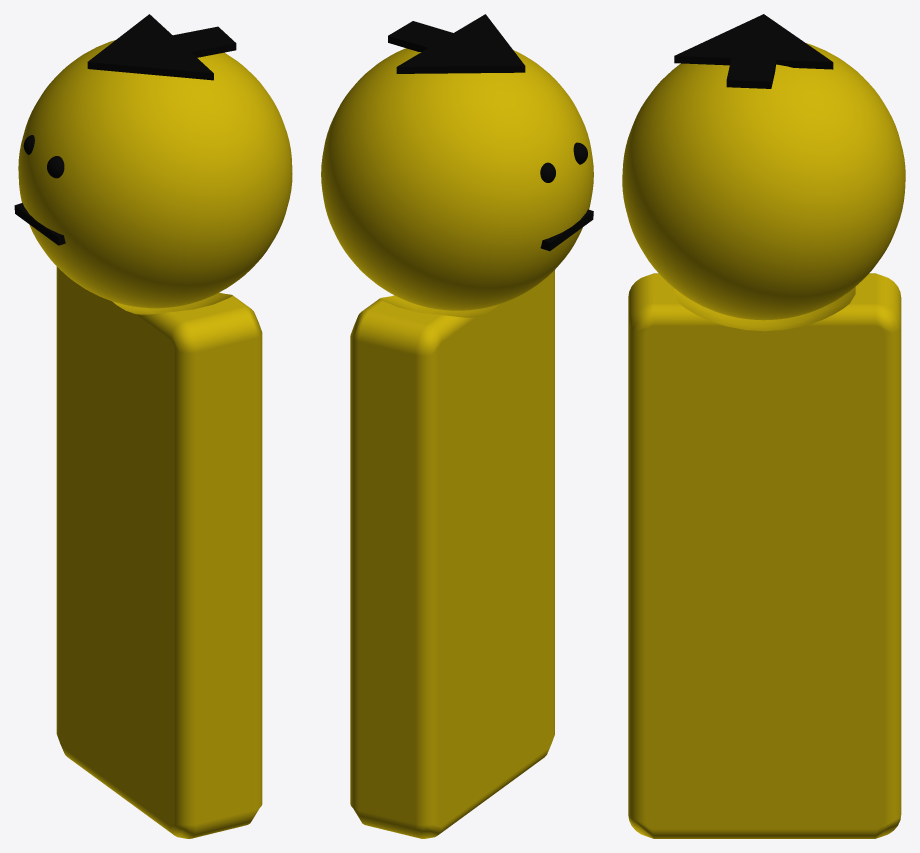
The model's file is yellow_poker.obj.
3 views of the same model, side by side, from view 1: azimuth 30°, elevation 25°; view 2: azimuth 150°, elevation 25°; view 3: azimuth 270°, elevation 25° (orthographic). The views are drawn at different scales.
Parts seen in each view (by area): view 1: 1_Curve.002_Curve.002, 5.002_Curve.002_Curve.002; view 2: 1_Curve.002_Curve.002, 5.002_Curve.002_Curve.002; view 3: 1_Curve.002_Curve.002, 5.002_Curve.002_Curve.002.
Boxes of the visible parts, x1=… form: 1_Curve.002_Curve.002: x1=18, y1=40, x2=292, y2=838; 5.002_Curve.002_Curve.002: x1=14, y1=14, x2=236, y2=245; 1_Curve.002_Curve.002: x1=321, y1=48, x2=593, y2=838; 5.002_Curve.002_Curve.002: x1=388, y1=14, x2=593, y2=251; 1_Curve.002_Curve.002: x1=622, y1=43, x2=905, y2=838; 5.002_Curve.002_Curve.002: x1=674, y1=14, x2=833, y2=88.
Size of the model in its own units: 0.1662 by 0.4993 by 0.1661.
